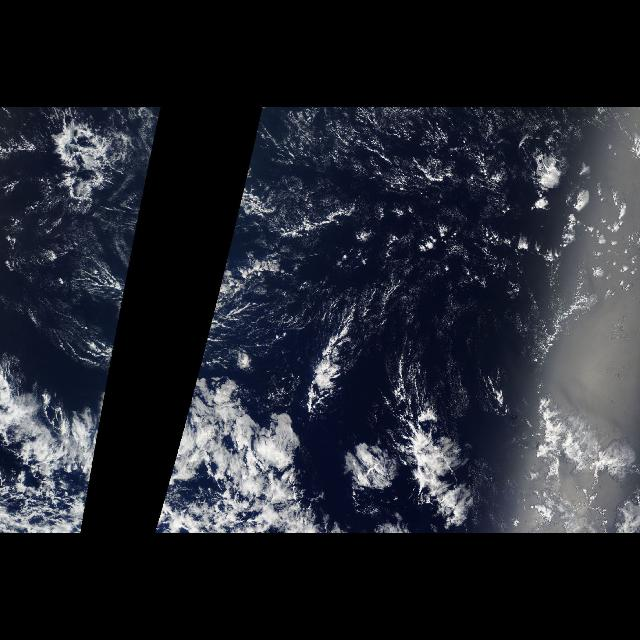Flower: (200, 370, 636, 528)
Gravel: (239, 108, 523, 218)
Sugar: (400, 264, 498, 408)
